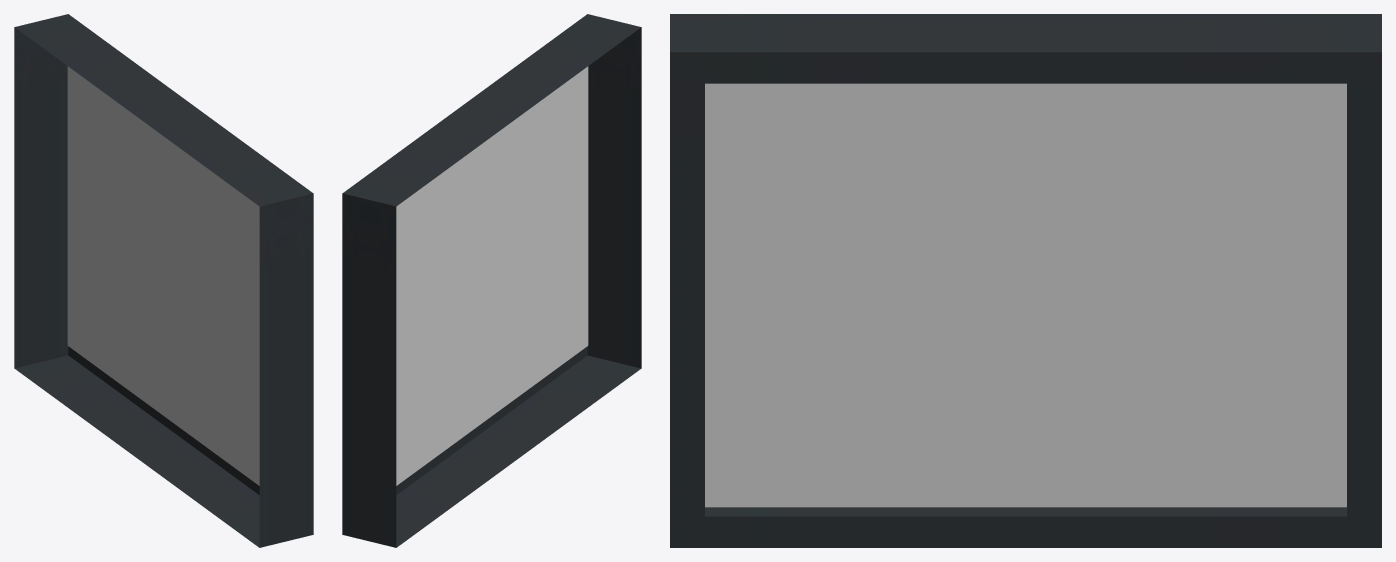
File: Mirror Frame (Above the Sink).fbx
3 renders of one model, left to right at view 1: azimuth 30°, elevation 25°; view 2: azimuth 150°, elevation 25°; view 3: azimuth 270°, elevation 25°, orthographic. The views are drawn at different scales.
Visible parts, largest first — view 1: Mirror & Frame; view 2: Mirror & Frame; view 3: Mirror & Frame.
Boxes of the visible parts, x1,y1,x2,y2 form: Mirror & Frame: (14, 14, 313, 547); Mirror & Frame: (342, 14, 641, 547); Mirror & Frame: (670, 14, 1381, 547).
Bounding box in the file's own units: 82.56 × 500 × 650.
